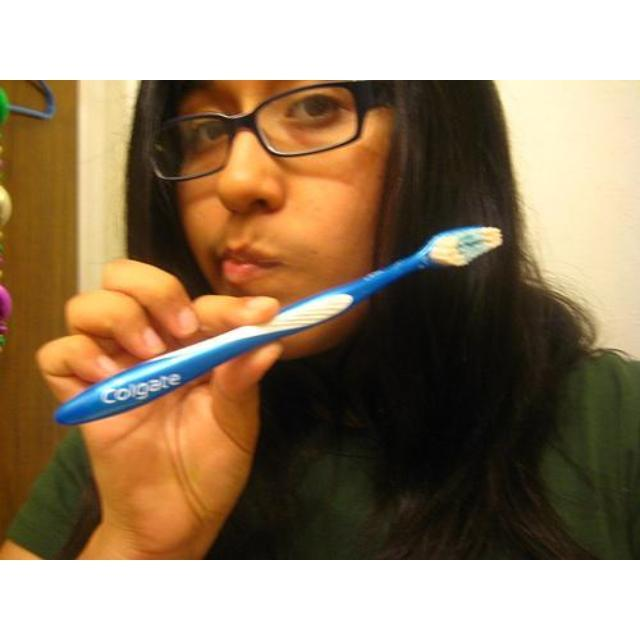toothbrush: (56, 227, 502, 426)
